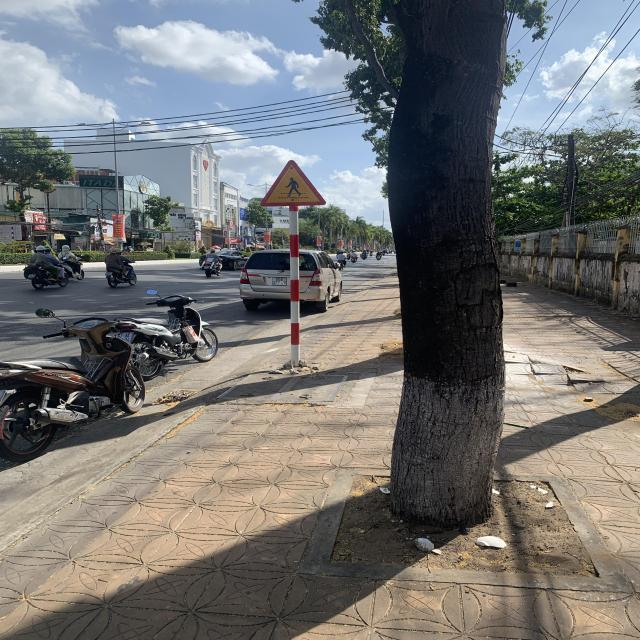Duong_Nguoi_Di_Bo_Sang_Ngang: (260, 160, 326, 206)
